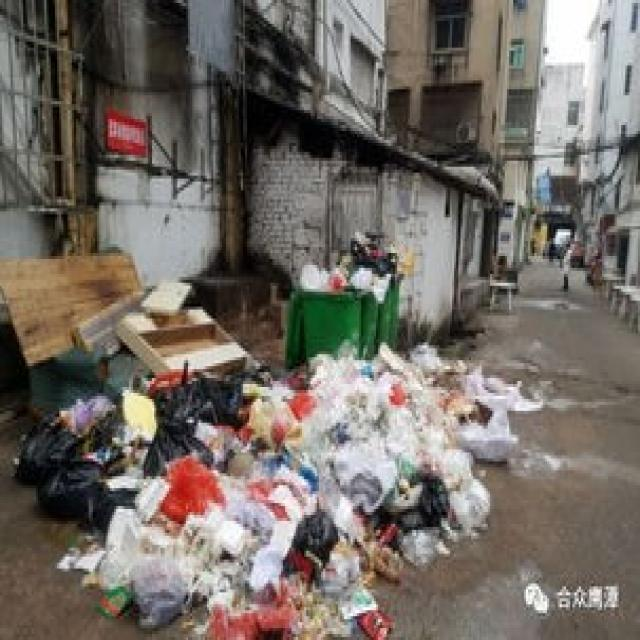garbage: (11, 336, 538, 637)
overflow: (281, 259, 359, 360), (349, 229, 399, 351)
